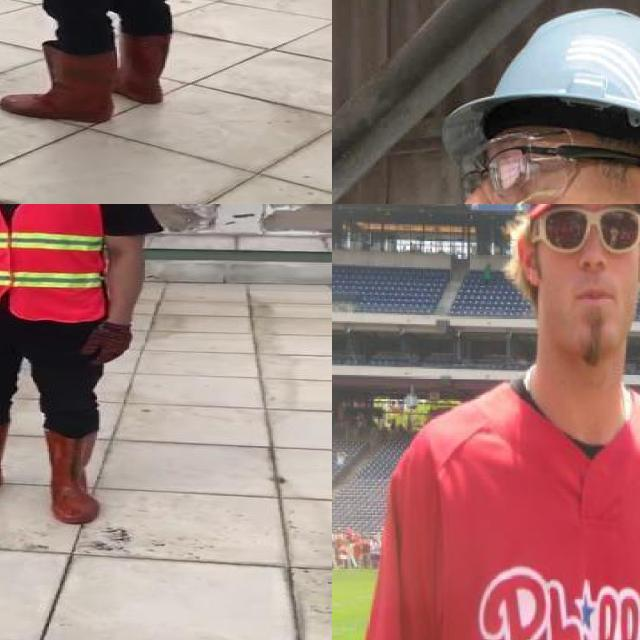boots: (1, 45, 116, 125), (44, 427, 108, 524), (110, 32, 174, 103)
face_nomask: (540, 204, 637, 318)
glasses: (543, 204, 640, 251)
hand_glove: (81, 326, 131, 366)
person: (363, 204, 640, 640), (0, 204, 154, 524), (0, 0, 214, 129)
vest: (0, 204, 109, 324)
